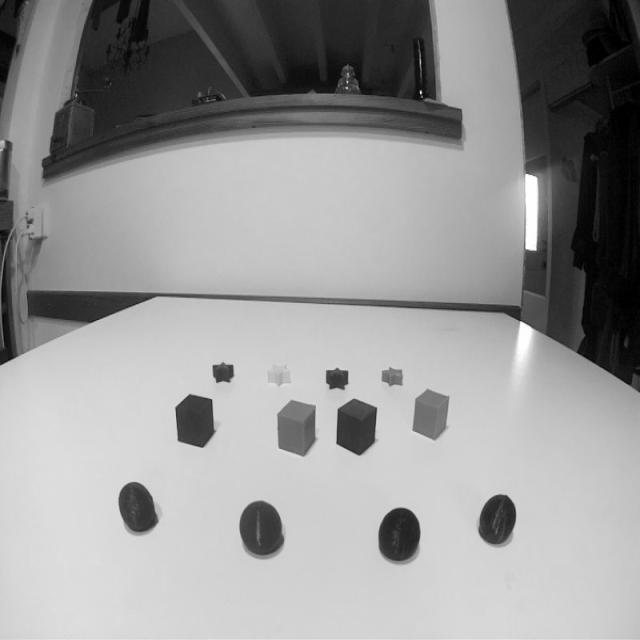ball: (237, 496, 285, 556), (377, 506, 422, 564), (476, 489, 518, 549), (116, 478, 157, 534)
cube: (276, 396, 319, 460), (334, 396, 379, 456), (410, 385, 453, 445), (173, 390, 215, 450)
star: (264, 360, 293, 389), (322, 363, 351, 392), (209, 360, 235, 385), (378, 364, 404, 388)
